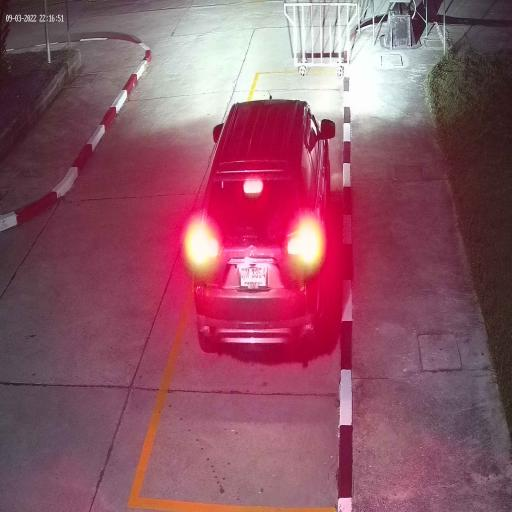car: (194, 98, 332, 355)
